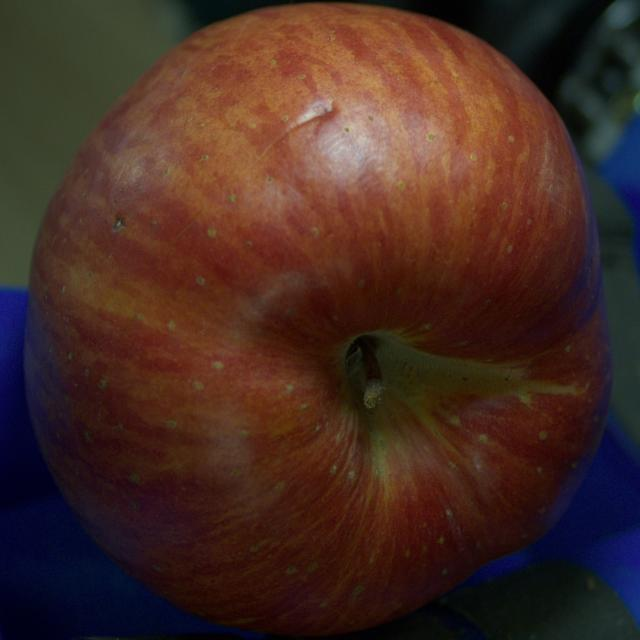apple: (24, 4, 611, 634)
bruise: (255, 95, 347, 163)
pest: (114, 219, 123, 229)
